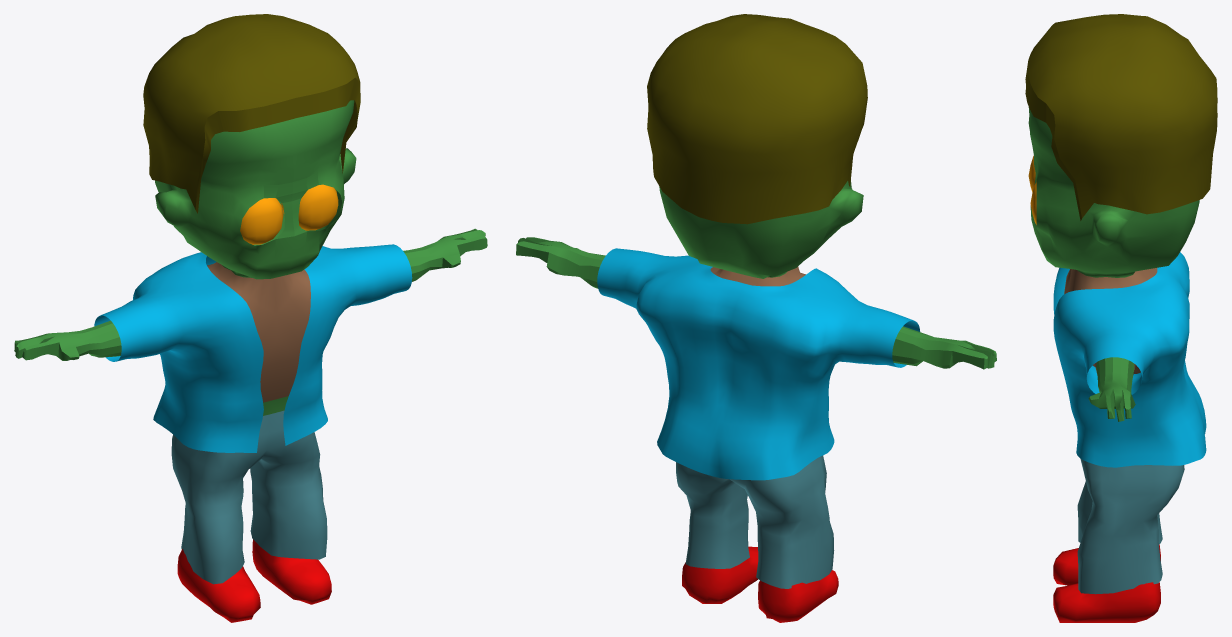
The model's file is frankie_lo.fbx.
3 views of the same model, side by side, from view 1: azimuth 30°, elevation 25°; view 2: azimuth 150°, elevation 25°; view 3: azimuth 270°, elevation 25° (orthographic).
Visible parts, largest first — view 1: jacket1_lo, Frankie_frankie_base_lo, Hair_lo, pants1_lo, shirt1_lo, shoe_l_lo, shoe_r_lo, eye_r_lo, eye_l_lo; view 2: jacket1_lo, Hair_lo, pants1_lo, Frankie_frankie_base_lo, shoe_l_lo, shoe_r_lo, shirt1_lo; view 3: Hair_lo, jacket1_lo, Frankie_frankie_base_lo, pants1_lo, shoe_l_lo, shirt1_lo, shoe_r_lo.
Boxes of the visible parts, bbox=[...] form: jacket1_lo: bbox=[94, 244, 412, 452]; Frankie_frankie_base_lo: bbox=[14, 100, 487, 415]; Hair_lo: bbox=[143, 14, 360, 213]; pants1_lo: bbox=[171, 410, 327, 584]; shirt1_lo: bbox=[207, 262, 310, 402]; shoe_l_lo: bbox=[252, 539, 331, 604]; shoe_r_lo: bbox=[177, 549, 260, 622]; eye_r_lo: bbox=[240, 198, 283, 244]; eye_l_lo: bbox=[281, 184, 338, 230]; jacket1_lo: bbox=[597, 248, 920, 480]; Hair_lo: bbox=[647, 14, 867, 224]; pants1_lo: bbox=[676, 455, 834, 588]; Frankie_frankie_base_lo: bbox=[516, 180, 996, 369]; shoe_l_lo: bbox=[682, 546, 758, 603]; shoe_r_lo: bbox=[758, 570, 838, 622]; shirt1_lo: bbox=[710, 266, 805, 286]; Hair_lo: bbox=[1025, 14, 1217, 220]; jacket1_lo: bbox=[1053, 252, 1206, 467]; Frankie_frankie_base_lo: bbox=[1028, 107, 1199, 421]; pants1_lo: bbox=[1077, 458, 1184, 594]; shoe_l_lo: bbox=[1053, 582, 1160, 622]; shirt1_lo: bbox=[1064, 268, 1157, 375]; shoe_r_lo: bbox=[1053, 544, 1160, 585].
Bounding box in the file's own units: 134 × 154 × 47.
